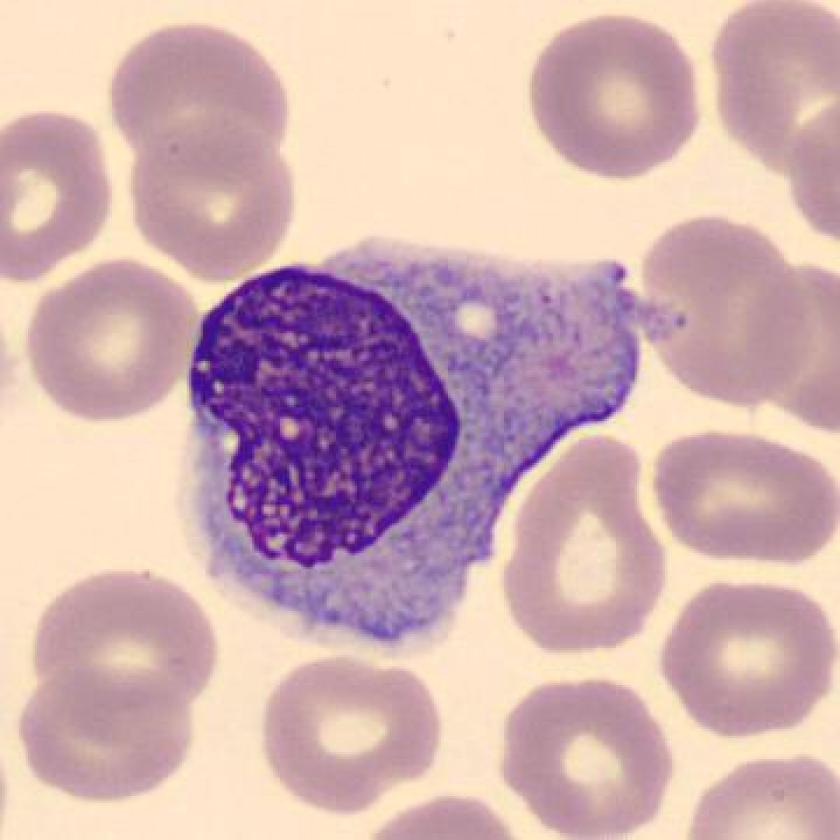monocyte: (169, 223, 706, 677)
